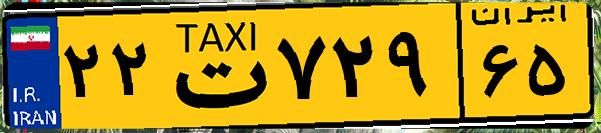2: (330, 28, 385, 110), (57, 26, 110, 100), (110, 28, 158, 98)
5: (525, 38, 570, 115)
6: (475, 38, 525, 113)
7: (270, 28, 330, 110)
9: (385, 28, 445, 110)
ت: (158, 12, 270, 120)
